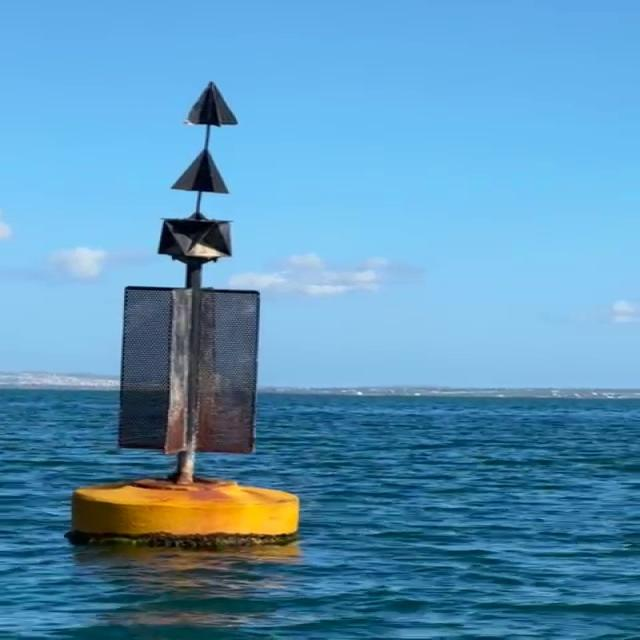marque: (77, 84, 300, 550)
